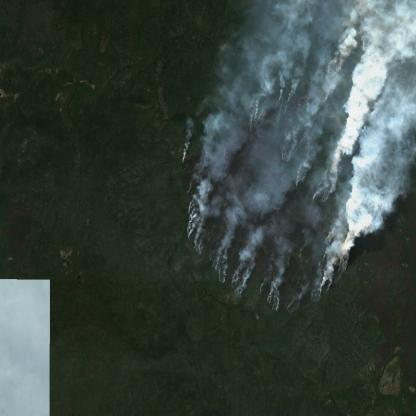fire: (171, 23, 362, 320)
